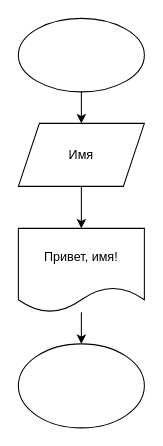
The diagram is 163 pixels wide and 446 high, and some of its shapes have lost their labels. The shapes that lost their labels are listed below. From the top down, each one's box as (x1, y1, x2, y2) in pixels, then its label:
(17, 17, 144, 92): Начало
(17, 343, 144, 428): Конец
